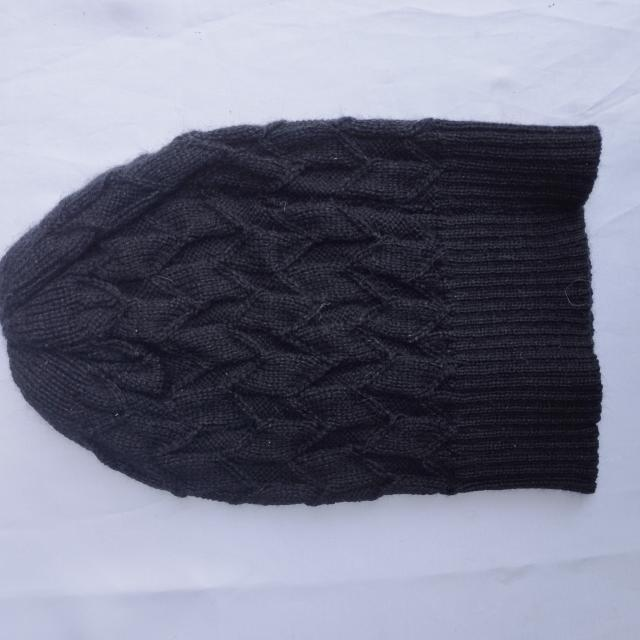Gorro: (1, 116, 605, 507)
